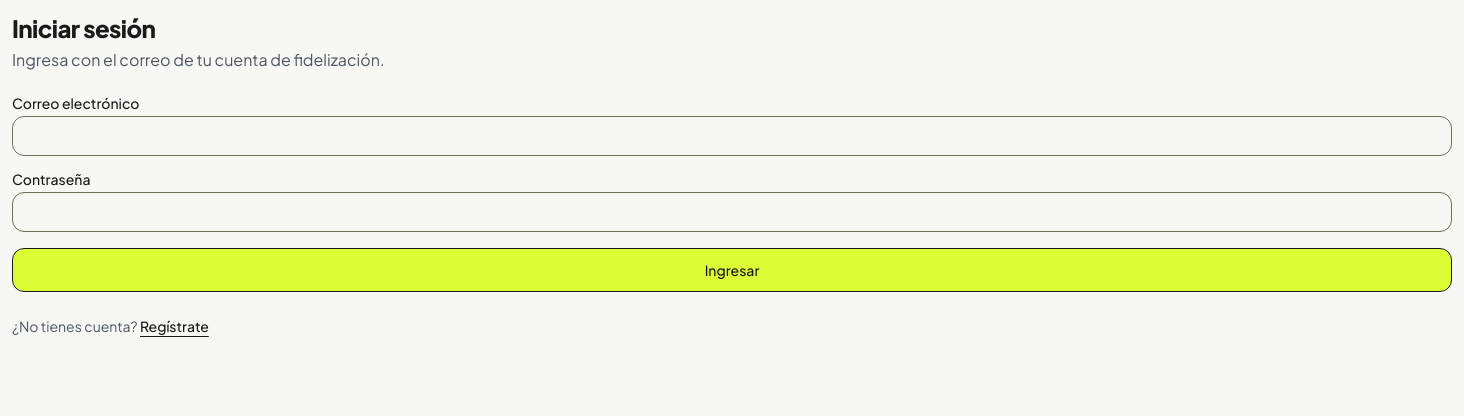
Test: F1-FE-01 · ingreso de cliente (UI-02) › cuenta de administrador en el acceso de clientes → se rechaza y se cierra la sesión
The width and height of the screenshot is (1464, 416).
In the field labelled "Correo electrónico": (732, 136) [12, 116, 1452, 156], type "cliente.zontes@ejemplo.test"
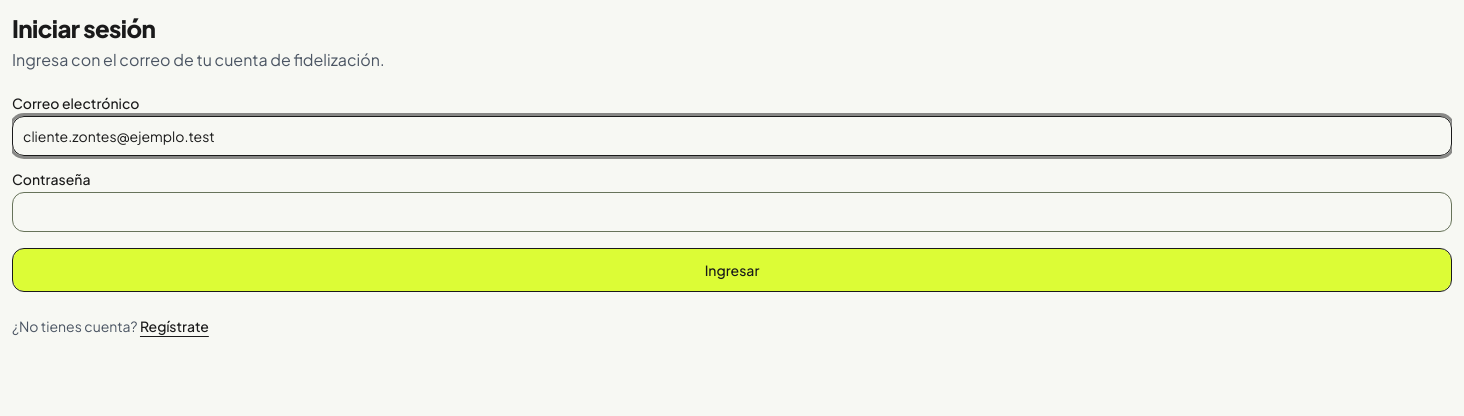
In the password field labelled "Contraseña": (732, 212) [12, 192, 1452, 232], type "secreta1"
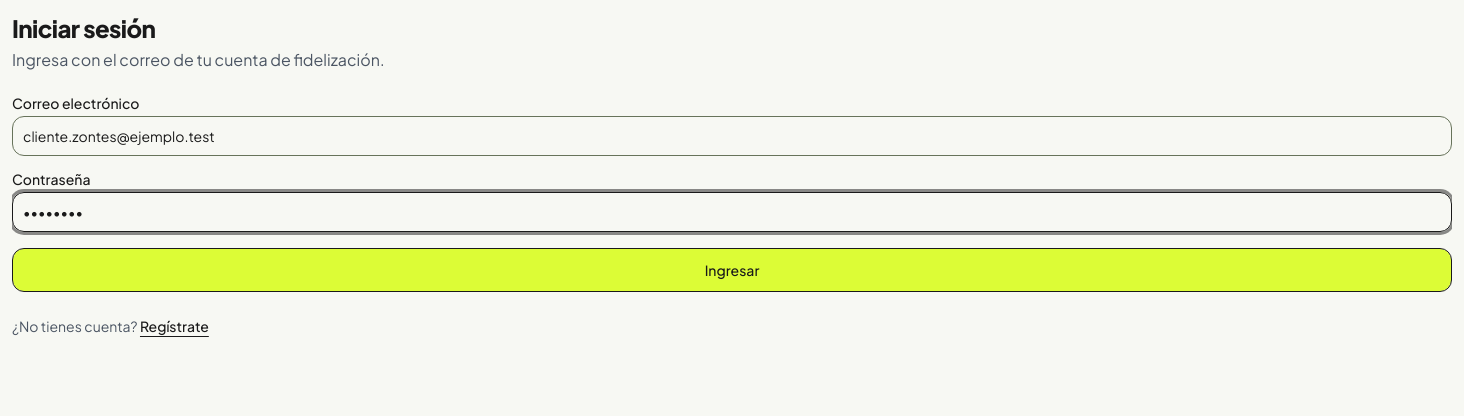
Click the button "Ingresar": click(732, 270) [12, 248, 1452, 292]
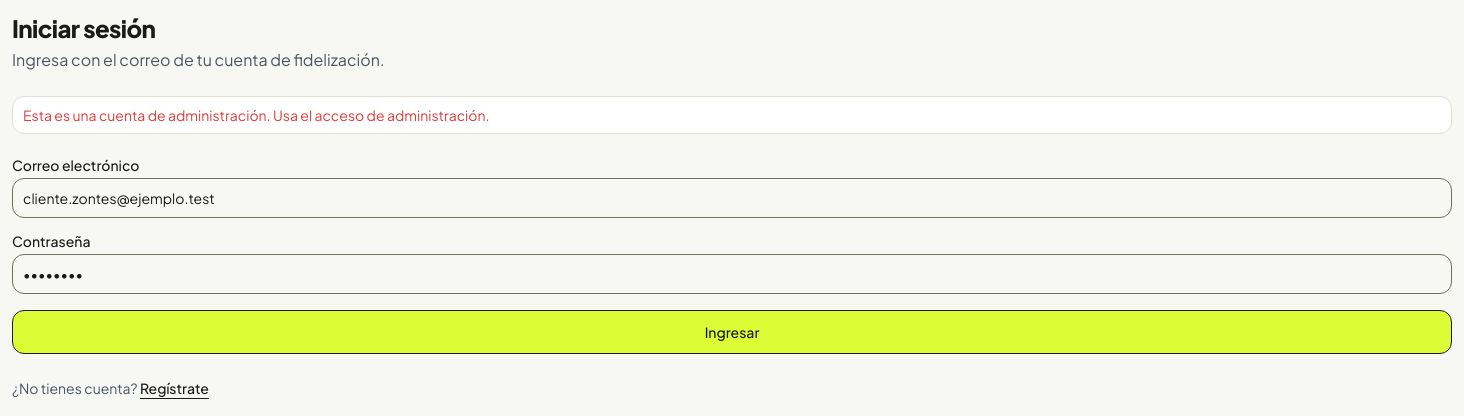
expect the message shows "acceso de administración": met, box [23, 106, 490, 124]
